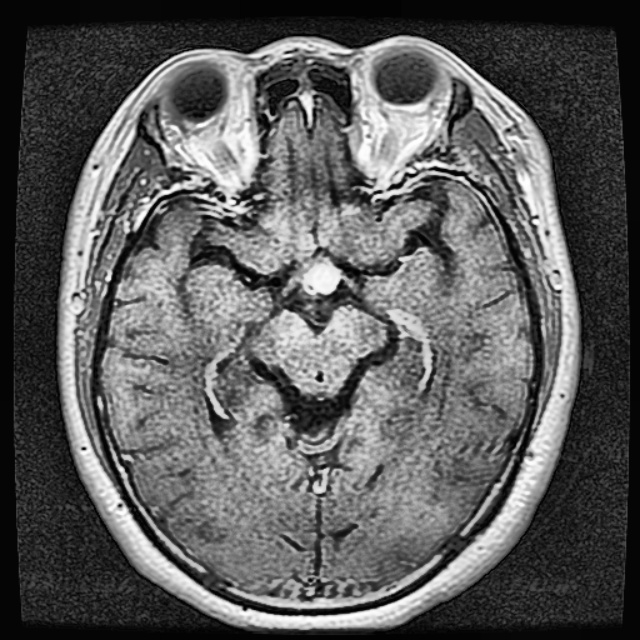Pituitary: (305, 259, 340, 295)
